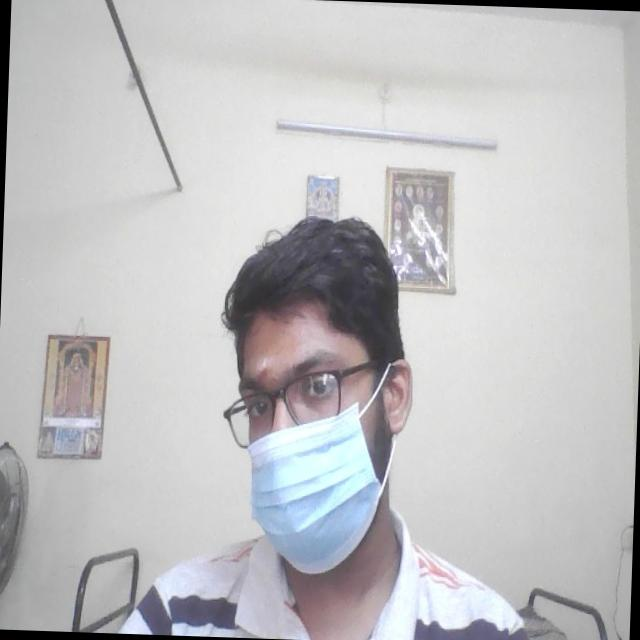Focused: (234, 304, 397, 555)
